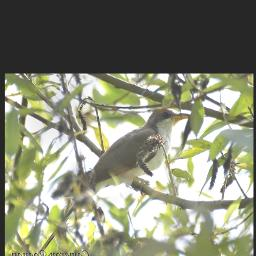Cuckoo: (40, 107, 192, 254)
